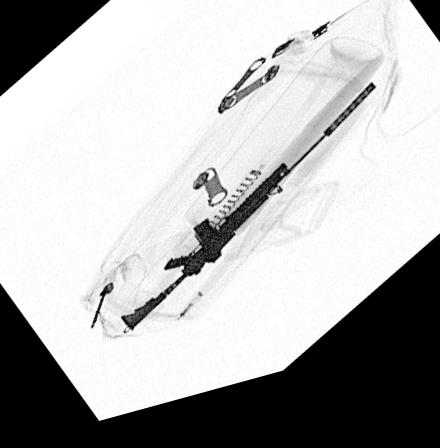Gun: (118, 100, 376, 339)
